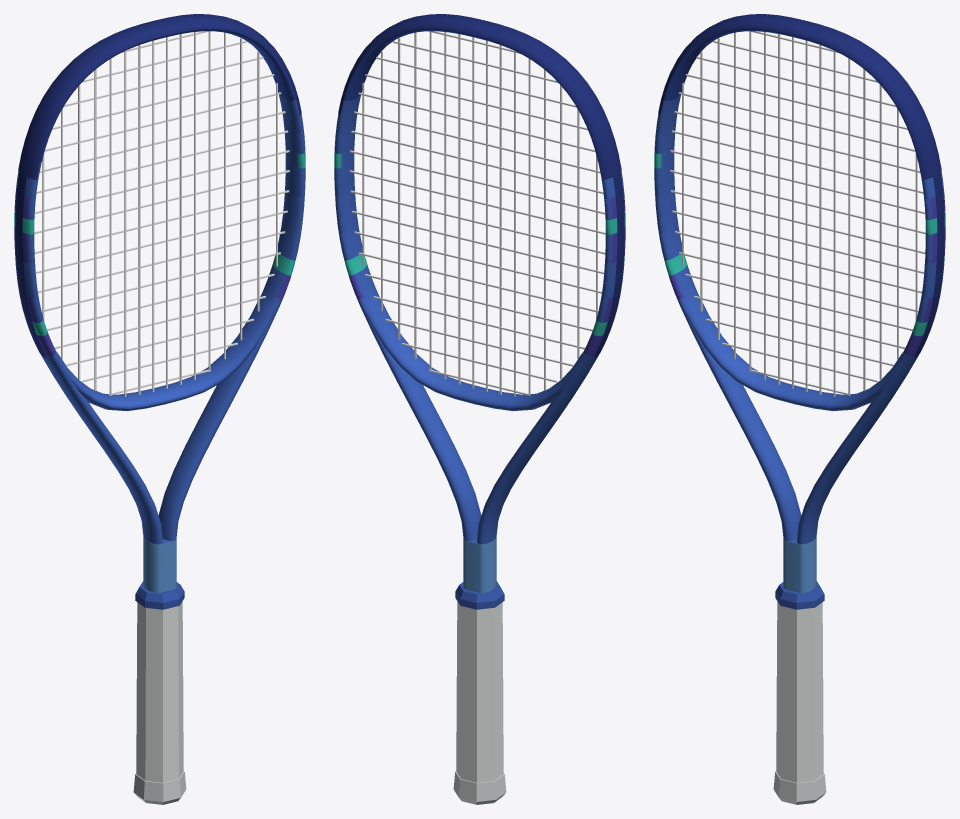
Rendered from yonex-ezone-100-sl-2025.glb.
The picture shows the model from 3 angles, left to right: view 1: azimuth 30°, elevation 25°; view 2: azimuth 150°, elevation 25°; view 3: azimuth 330°, elevation 25°; orthographic projection.
Visible parts, largest first — view 1: frame, strings_mains, strings_crosses, grip, bumper, grommets, butt_cap, collar; view 2: frame, strings_mains, strings_crosses, grip, bumper, grommets, butt_cap, collar; view 3: frame, strings_mains, strings_crosses, grip, bumper, grommets, butt_cap, collar.
Boxes of the visible parts, box(x1,y1,x2,y2) form: frame: box(14, 28, 305, 592); strings_mains: box(42, 31, 277, 396); strings_crosses: box(34, 31, 289, 395); grip: box(136, 601, 183, 782); bumper: box(18, 14, 301, 179); grommets: box(15, 172, 46, 357); butt_cap: box(133, 771, 186, 804); collar: box(135, 581, 184, 609); frame: box(334, 28, 625, 592); strings_mains: box(362, 32, 597, 396); strings_crosses: box(349, 31, 605, 395); grip: box(456, 601, 503, 782); bumper: box(338, 14, 621, 179); grommets: box(593, 172, 624, 357); butt_cap: box(453, 771, 506, 804); collar: box(455, 581, 504, 609); frame: box(654, 28, 945, 592); strings_mains: box(682, 31, 917, 396); strings_crosses: box(670, 31, 925, 395); grip: box(776, 601, 823, 782); bumper: box(658, 14, 941, 179); grommets: box(913, 172, 944, 357); butt_cap: box(773, 771, 826, 804); collar: box(775, 581, 824, 609).
Size of the model in its own units: 0.2636 by 0.6861 by 0.0396.
